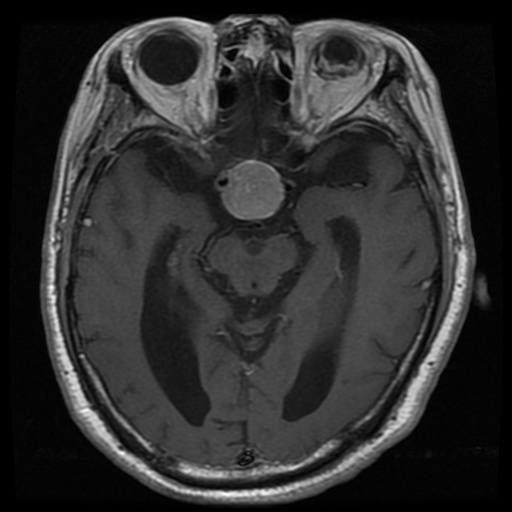pituitary: (224, 160, 284, 219)
